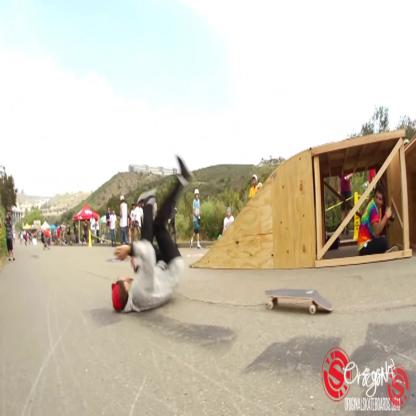Fall_Down: (111, 150, 193, 316)
